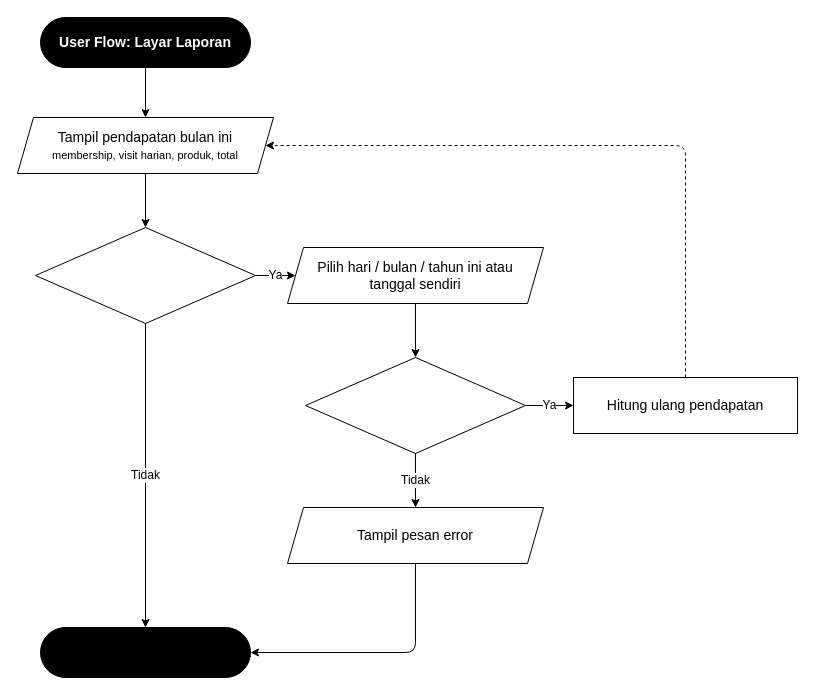
This 815x695 diagram has some shape labels left out. Each missing label, with the centre of its shape:
Ganti periode?: the point at 145,275
Rentang tanggal valid?: the point at 415,405
Selesai: the point at 145,652
